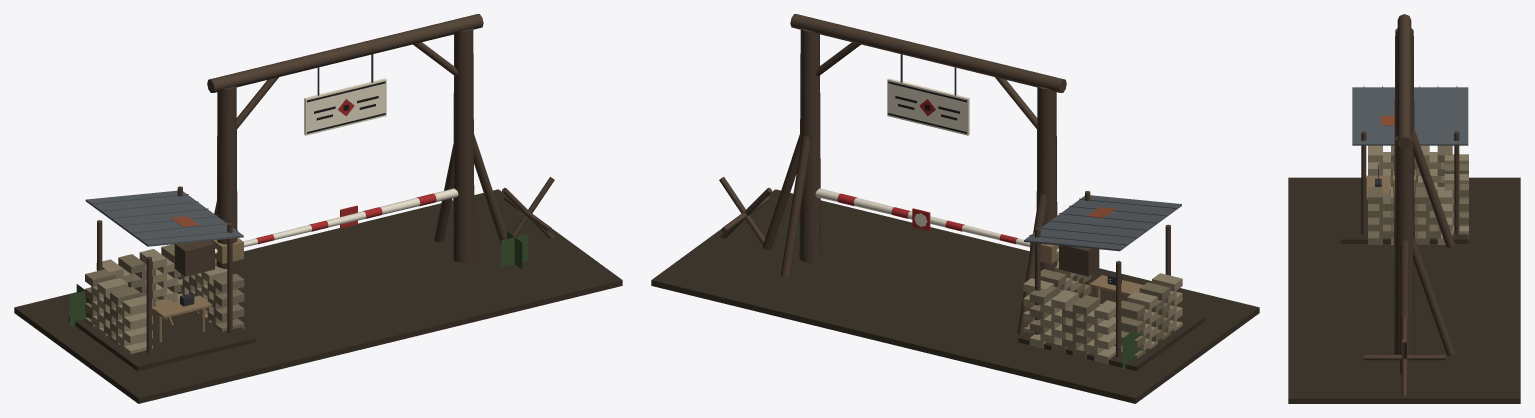
The model's file is firebase-gate.glb.
The picture shows the model from 3 angles, left to right: view 1: azimuth 30°, elevation 25°; view 2: azimuth 150°, elevation 25°; view 3: azimuth 270°, elevation 25°; orthographic projection. The views are drawn at different scales.
Parts seen in each view (by area): view 1: Mesh_Ground, Mesh_TinRoof, Mesh_PostLeft, Mesh_ShackDirtBase, Mesh_TopCrossbar, Mesh_PostRight, Mesh_SignBoard, Mesh_BarrierPole, Mesh_Counterweight, Mesh_StrutLeft1, Mesh_Bush1, Mesh_StrutLeft2 (+4 smaller); view 2: Mesh_Ground, Mesh_TinRoof, Mesh_PostLeft, Mesh_TopCrossbar, Mesh_SignBoard, Mesh_PostRight, Mesh_ShackDirtBase, Mesh_StrutLeft2, Mesh_BarrierPole, Mesh_Counterweight, Mesh_StrutLeft1, Mesh_StrutRight1 (+1 smaller); view 3: Mesh_Ground, Mesh_TinRoof, Mesh_PostLeft, Mesh_TopCrossbar, Mesh_ShackDirtBase, Mesh_StrutLeft2, Mesh_StrutRight1, Mesh_StrutLeft1, Mesh_PostRight, Mesh_ShackPostBL, Mesh_ShackPostFL, Mesh_SpikeBeamAxle (+9 smaller).
Boxes of the visible parts, x1,y1,x2,y2 form: Mesh_Ground: (14, 189, 622, 403); Mesh_TinRoof: (85, 190, 243, 246); Mesh_PostLeft: (453, 28, 474, 262); Mesh_ShackDirtBase: (69, 310, 255, 371); Mesh_TopCrossbar: (207, 14, 483, 92); Mesh_PostRight: (216, 86, 237, 274); Mesh_SignBoard: (304, 78, 386, 135); Mesh_BarrierPole: (215, 188, 458, 253); Mesh_Counterweight: (174, 240, 214, 276); Mesh_StrutLeft1: (474, 134, 506, 245); Mesh_Bush1: (501, 232, 527, 269); Mesh_StrutLeft2: (434, 144, 453, 242); Mesh_Ground: (651, 189, 1259, 403); Mesh_TinRoof: (1024, 195, 1181, 251); Mesh_PostLeft: (799, 28, 820, 262); Mesh_TopCrossbar: (790, 14, 1066, 92); Mesh_SignBoard: (887, 78, 969, 135); Mesh_PostRight: (1036, 86, 1057, 271); Mesh_ShackDirtBase: (1018, 289, 1204, 371); Mesh_StrutLeft2: (780, 135, 810, 277); Mesh_BarrierPole: (815, 188, 1058, 253); Mesh_Counterweight: (1059, 245, 1099, 276); Mesh_StrutLeft1: (762, 134, 799, 249); Mesh_StrutRight1: (1017, 193, 1046, 334); Mesh_Ground: (1288, 177, 1520, 403); Mesh_TinRoof: (1352, 87, 1468, 145); Mesh_PostLeft: (1394, 136, 1414, 354); Mesh_TopCrossbar: (1397, 14, 1411, 149); Mesh_ShackDirtBase: (1340, 185, 1468, 243); Mesh_StrutLeft2: (1412, 237, 1455, 356); Mesh_StrutRight1: (1412, 129, 1455, 248); Mesh_StrutLeft1: (1400, 240, 1408, 374); Mesh_PostRight: (1394, 28, 1414, 246); Mesh_ShackPostBL: (1361, 131, 1366, 234); Mesh_ShackPostFL: (1454, 131, 1459, 234); Mesh_SpikeBeamAxle: (1363, 354, 1445, 360).
Size of the model in its own units: 9 by 4.37 by 4.
